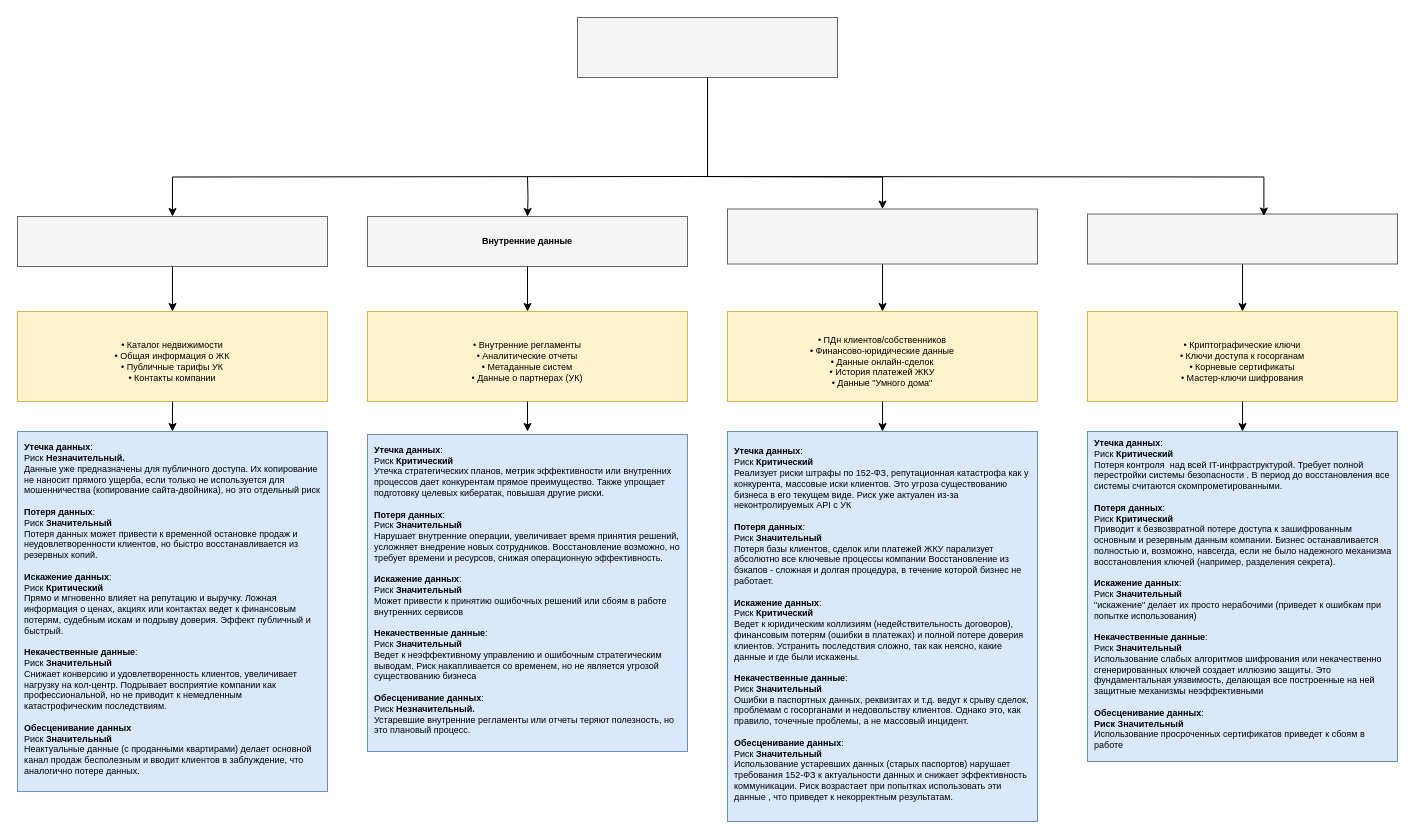
Image size: 1415x839. Some labels were removed from this diagram. The box of each missing label's shape, as (x1, y1, x2, y2) in pixels:
Безопасность данных: (576, 16, 838, 78)
Конфиденциальные данные: (726, 208, 1038, 264)
Публичные данные: (16, 216, 328, 266)
Секретные данные: (1086, 213, 1398, 264)
